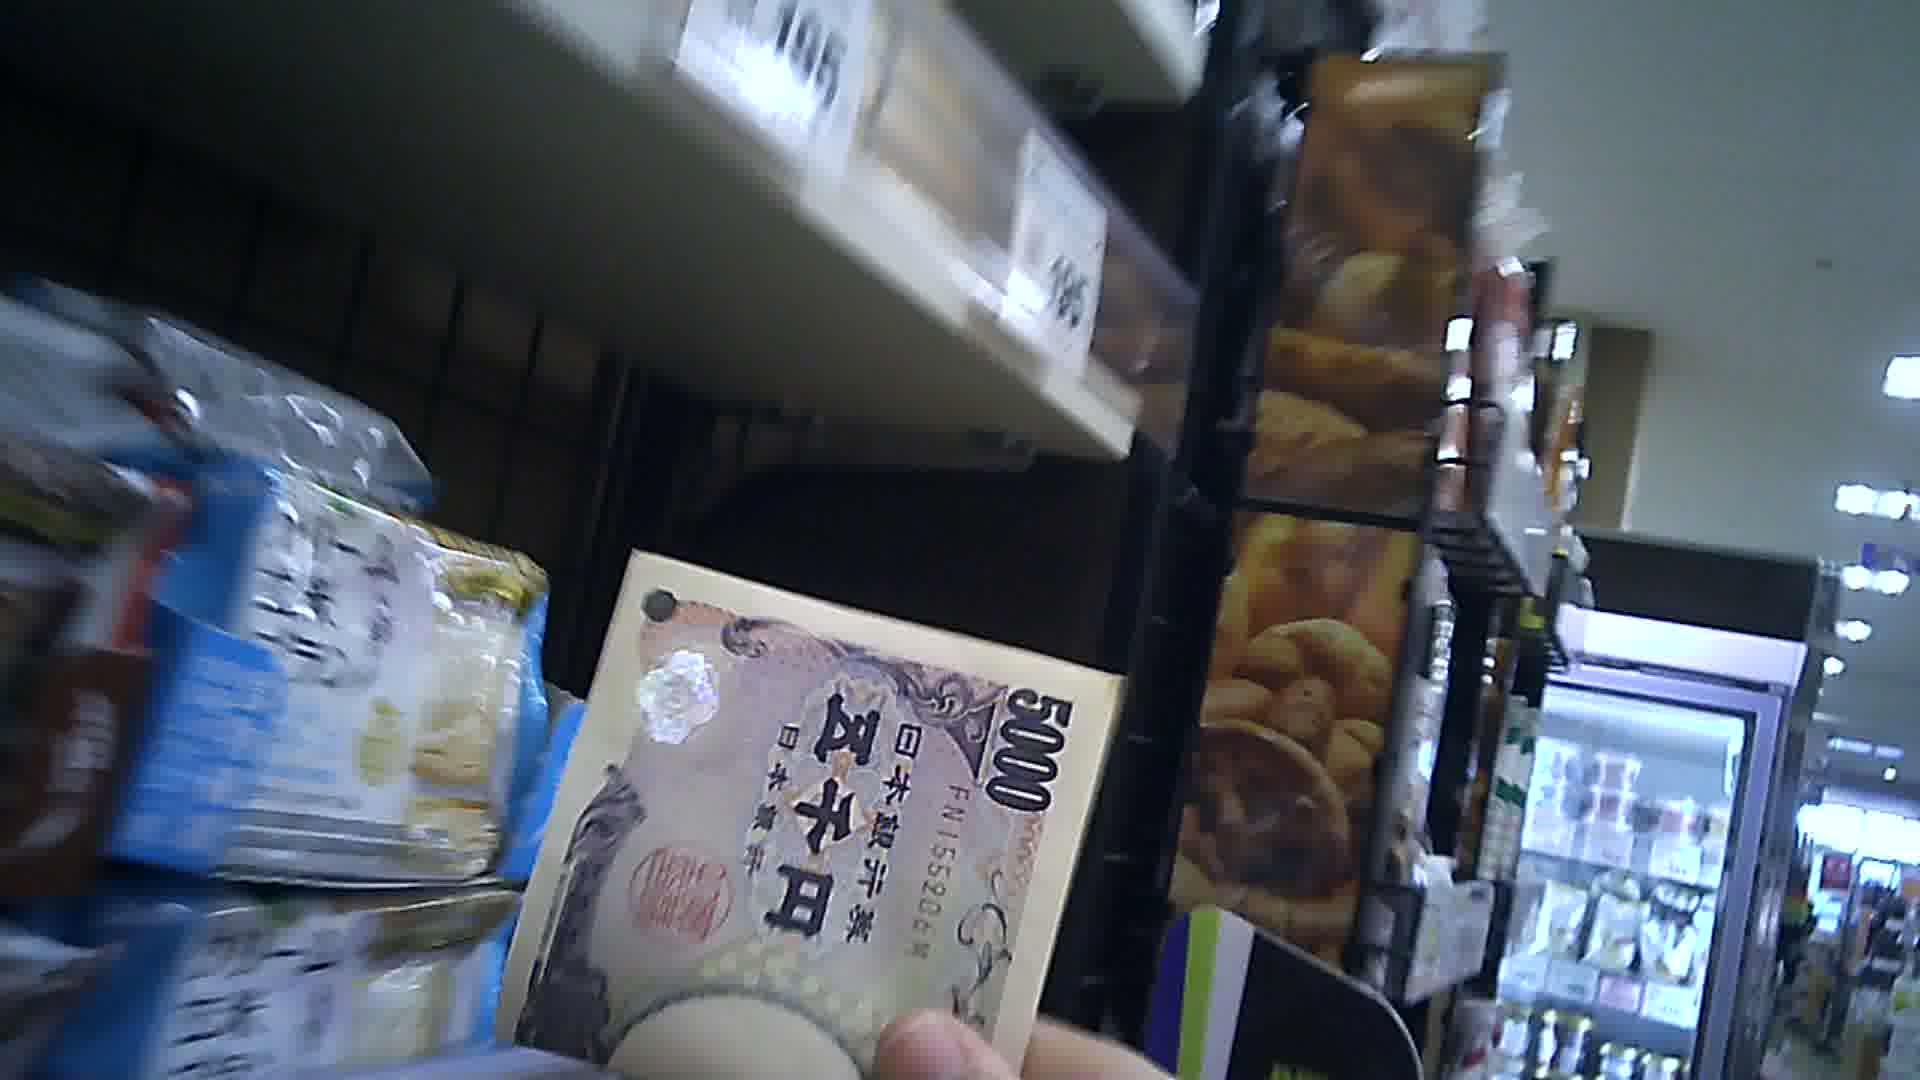5,000 Yen: (485, 541, 1098, 1079)
